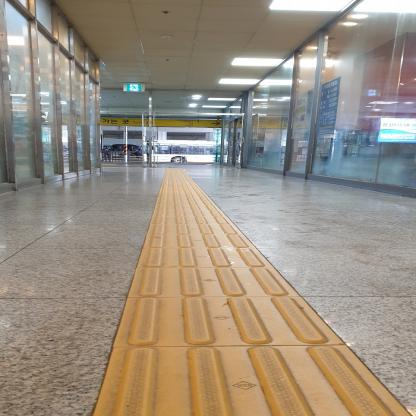go: (112, 296, 345, 347), (129, 267, 301, 298), (137, 247, 275, 268), (143, 234, 258, 248), (146, 223, 245, 234)
